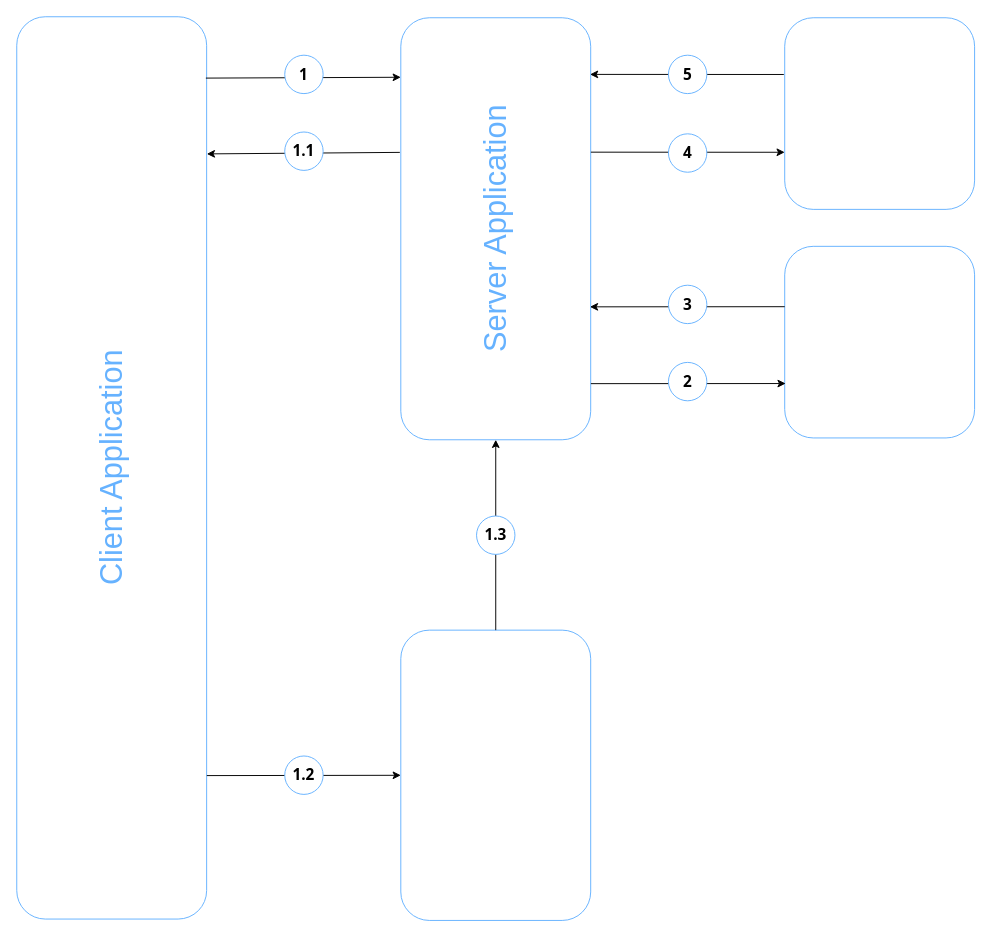
This 992x938 diagram has some shape labels left out. The shapes that lost their labels are listed below. From the top down, each one's centre as x and y in pixels, then its label:
At pixel 879 113: "Cache".
At pixel 879 341: "Database".
At pixel 495 774: "OAuth Provider".
